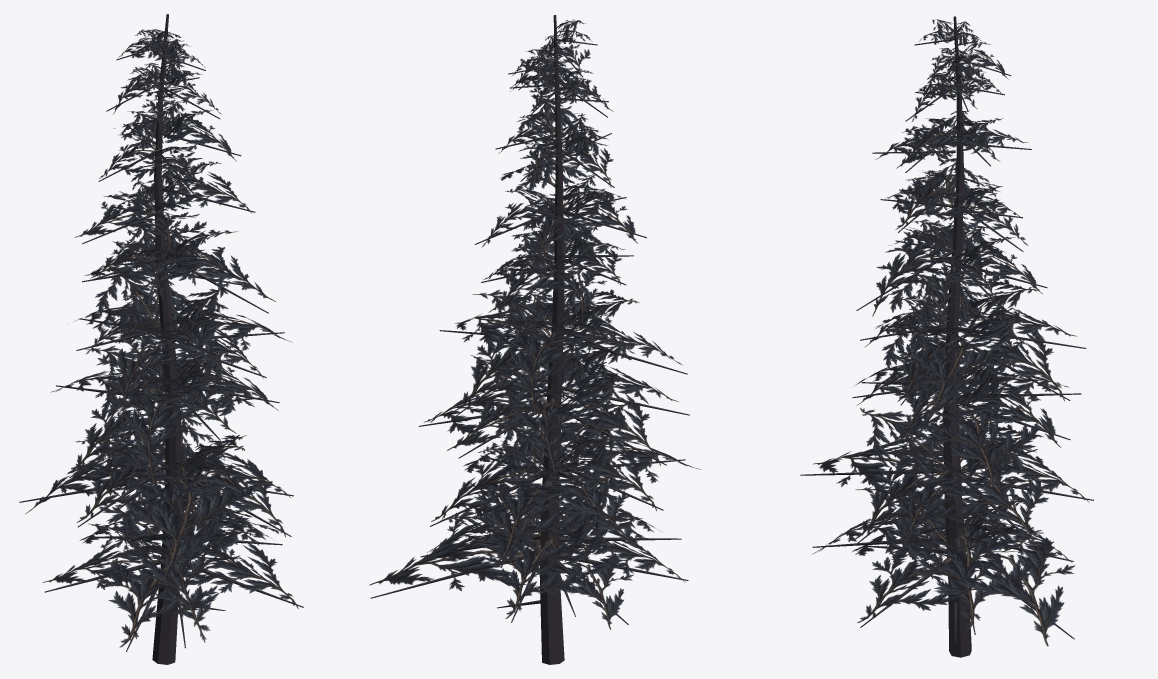
Rendered from conifer.glb.
3 renders of one model, left to right at view 1: azimuth 30°, elevation 25°; view 2: azimuth 150°, elevation 25°; view 3: azimuth 270°, elevation 25°, orthographic.
Visible parts, largest first — view 1: conifer; view 2: conifer; view 3: conifer.
Part boxes in pixels (left/top/right/bottom): conifer: left=19, top=14, right=303, bottom=664; conifer: left=369, top=15, right=701, bottom=664; conifer: left=800, top=16, right=1093, bottom=657.
Size of the model in its own units: 3.26 by 6.33 by 3.39.
2 materials, 1 textured.
